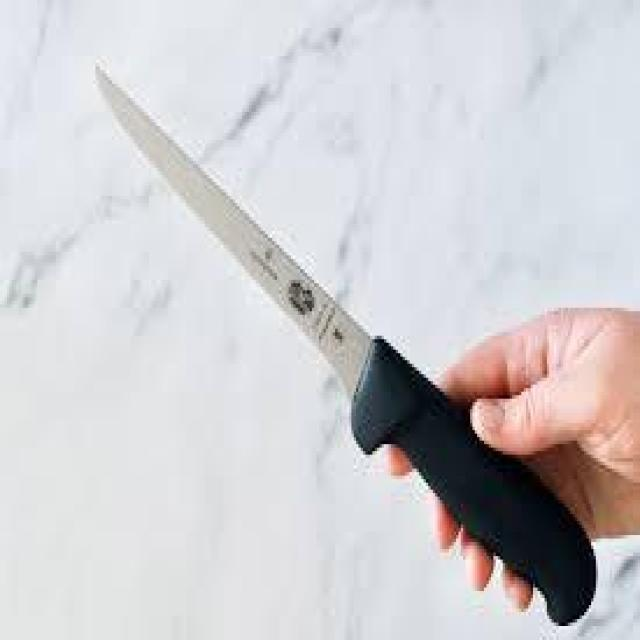Knife: (72, 42, 596, 635)
